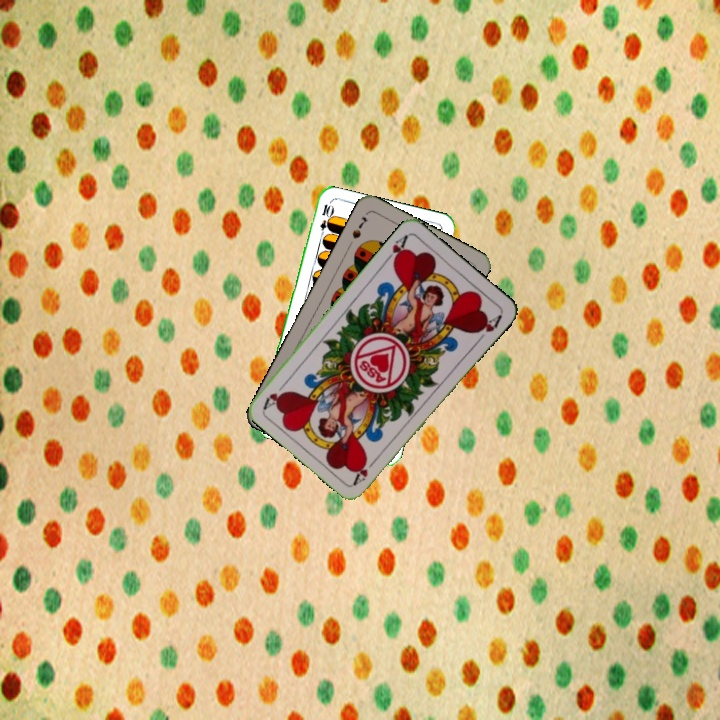E10: (316, 200, 333, 240)
HA: (381, 231, 411, 268), (349, 453, 381, 487)
S7: (348, 212, 371, 242)
